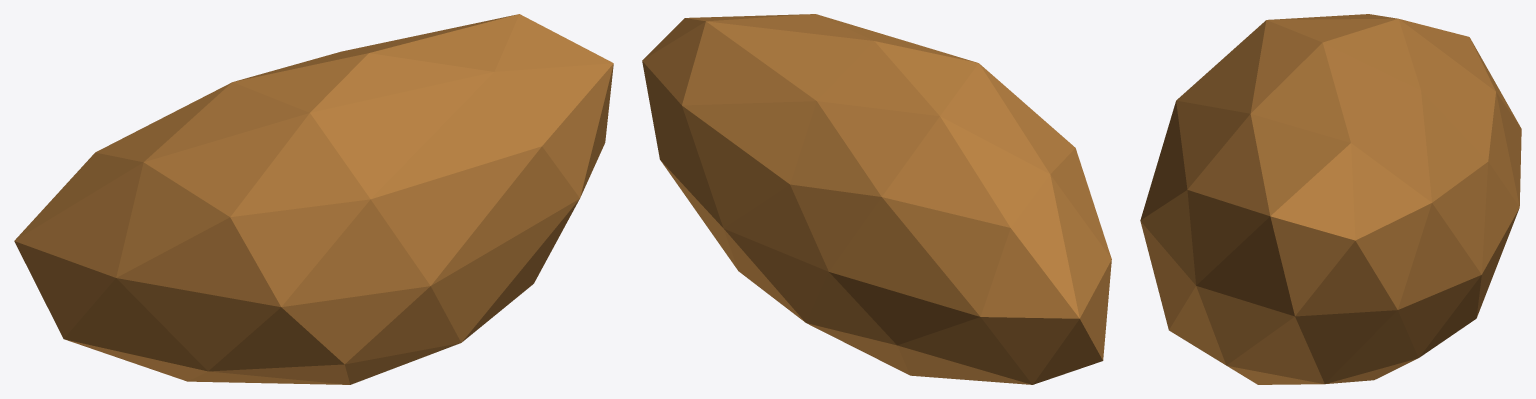
File: potato.glb
3 renders of one model, left to right at view 1: azimuth 30°, elevation 25°; view 2: azimuth 150°, elevation 25°; view 3: azimuth 270°, elevation 25°, orthographic. The views are drawn at different scales.
Parts seen in each view (by area): view 1: potato; view 2: potato; view 3: potato.
Part boxes in pixels (x1=…): potato: x1=14, y1=14, x2=613, y2=384; potato: x1=642, y1=14, x2=1111, y2=384; potato: x1=1140, y1=14, x2=1521, y2=384.
Size of the model in its own units: 0.4852 by 0.2782 by 0.2789.
